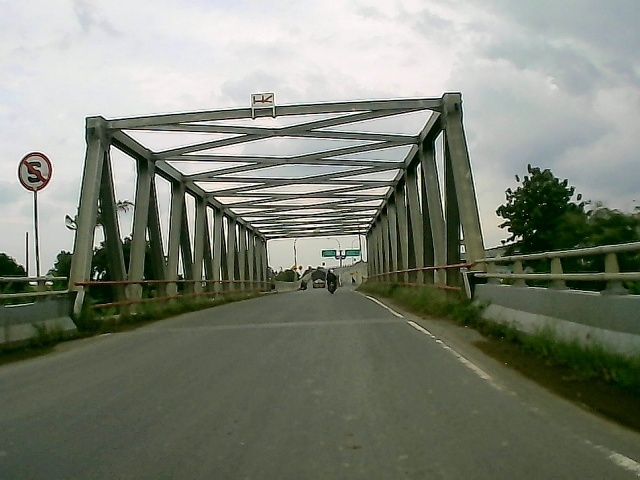Dilarang berhenti: (14, 151, 54, 192)
